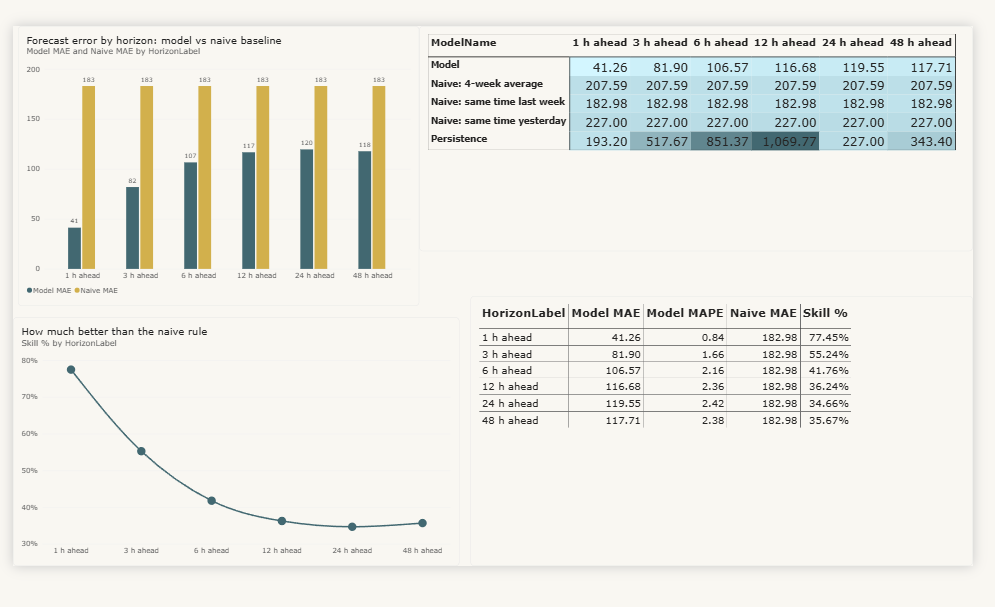

The page's visual inventory and layout, read from the dashboard file:
{"tool":"powerbi","page":{"name":"Accuracy","canvas":[1920,1080],"ordinal":1},"visuals":[{"type":"clusteredColumnChart","title":"Forecast error by horizon: model vs naive baseline","fields":{"Category":["dim_horizon.HorizonLabel"],"Y":["_Measures.Model MAE","_Measures.Naive MAE"]},"box":[10,0,802.5,560],"z":0},{"type":"lineChart","title":"How much better than the naive rule","fields":{"Category":["dim_horizon.HorizonLabel"],"Y":["_Measures.Skill %"]},"box":[0,582.5,892.5,497.5],"z":1},{"type":"tableEx","fields":{"Values":["dim_horizon.HorizonLabel","_Measures.Model MAE","_Measures.Model MAPE","_Measures.Naive MAE","_Measures.Skill %"]},"box":[915,540,1005,540],"z":2},{"type":"pivotTable","fields":{"Columns":["dim_horizon.HorizonLabel"],"Rows":["scores_long.ModelName"],"Values":["Avg(scores_long.MAE)"]},"box":[812.5,0,1107.5,450],"z":3}]}

Visuals, with their boxes on the page's 1920x1080 design canvas (x1, y1, x2, y2). These are canvas units, not pixel positions in the 995x607 screenshot, which may show the page scaled, cropped or inside an application window:
"Forecast error by horizon: model vs naive baseline" clusteredColumnChart: l=10, t=0, r=812, b=560
"How much better than the naive rule" lineChart: l=0, t=582, r=892, b=1080
tableEx - dim_horizon.HorizonLabel x _Measures.Model MAE: l=915, t=540, r=1920, b=1080
pivotTable - dim_horizon.HorizonLabel x scores_long.ModelName: l=812, t=0, r=1920, b=450
